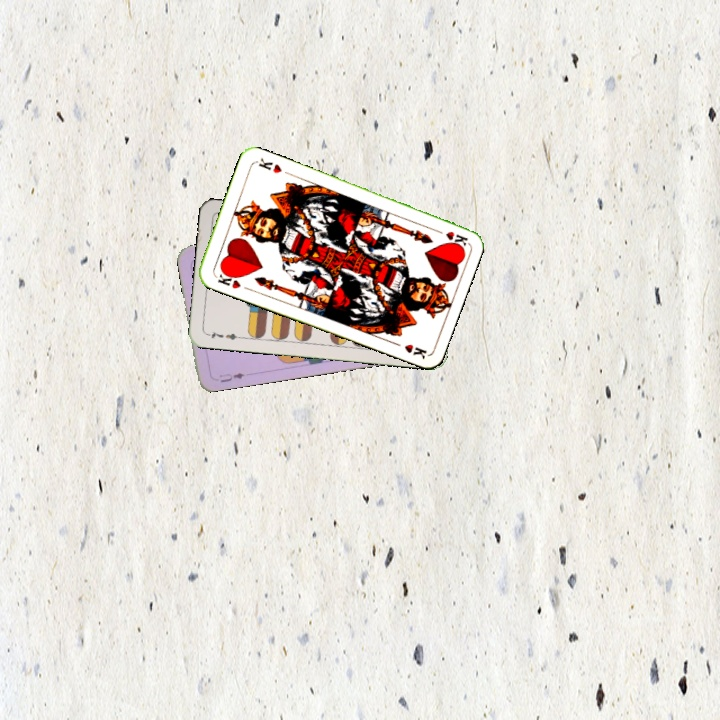E7: (203, 327, 243, 342)
EU: (215, 369, 247, 385)
HK: (430, 225, 470, 249), (211, 267, 243, 291)
